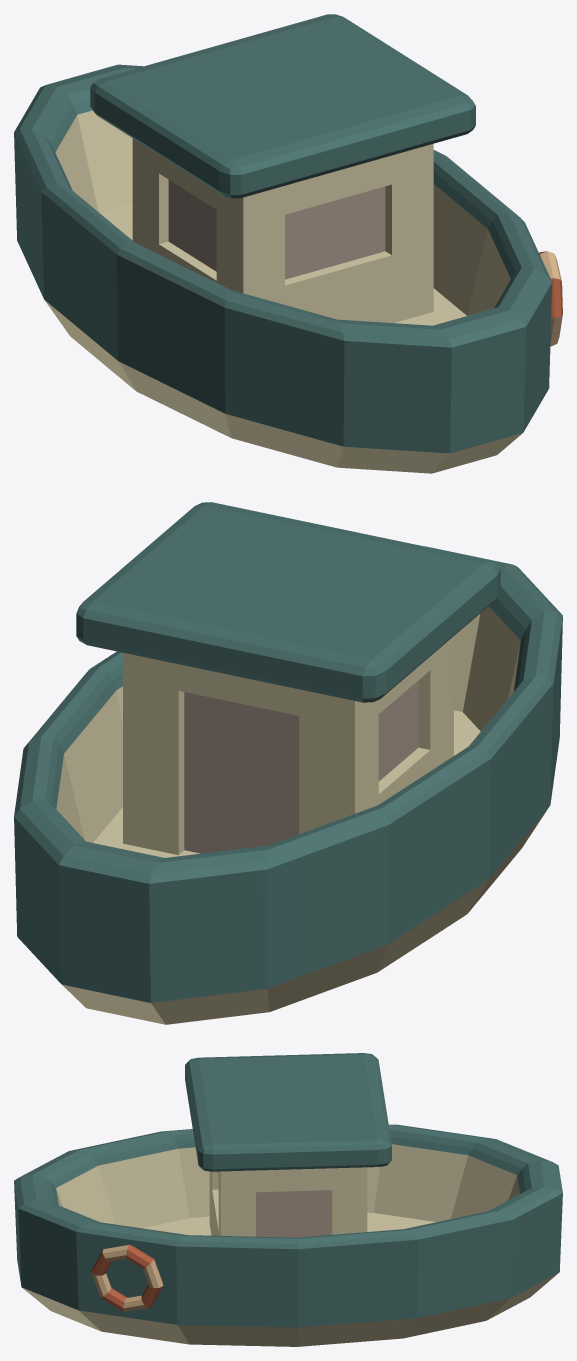
File: boat.glb
3 views of the same model, one above another, from view 1: azimuth 30°, elevation 25°; view 2: azimuth 150°, elevation 25°; view 3: azimuth 270°, elevation 25° (orthographic). The views are drawn at different scales.
Visible parts, largest first — view 1: Sphere.026_Material.001_0; view 2: Sphere.026_Material.001_0; view 3: Sphere.026_Material.001_0.
Boxes of the visible parts, x1,y1,x2,y2 form: Sphere.026_Material.001_0: [14, 14, 562, 473]; Sphere.026_Material.001_0: [14, 502, 562, 1024]; Sphere.026_Material.001_0: [14, 1053, 562, 1346].
Size of the model in its own units: 0.7684 by 0.5531 by 1.43.
1 material, 1 textured.
